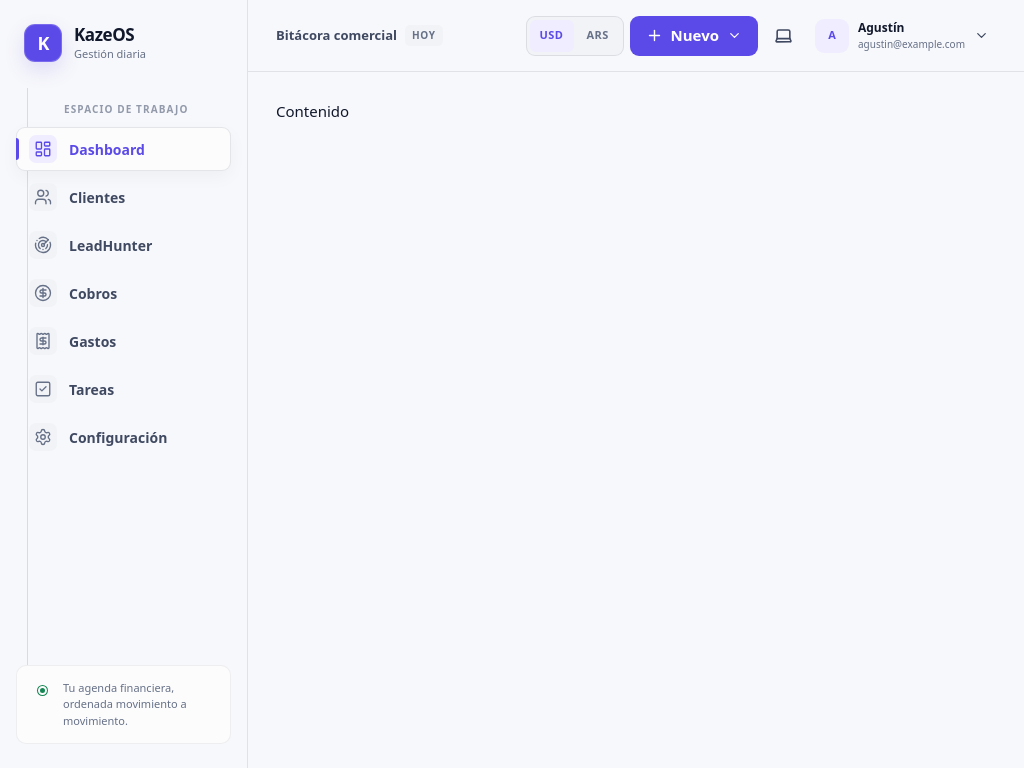
Scenario: AppShell › moves focus into the account menu and restores it on Escape
The width and height of the screenshot is (1024, 768).
Click the button with aria-label "Cuenta de Agustín": {"x": 903, "y": 36} [810,12,996,58]
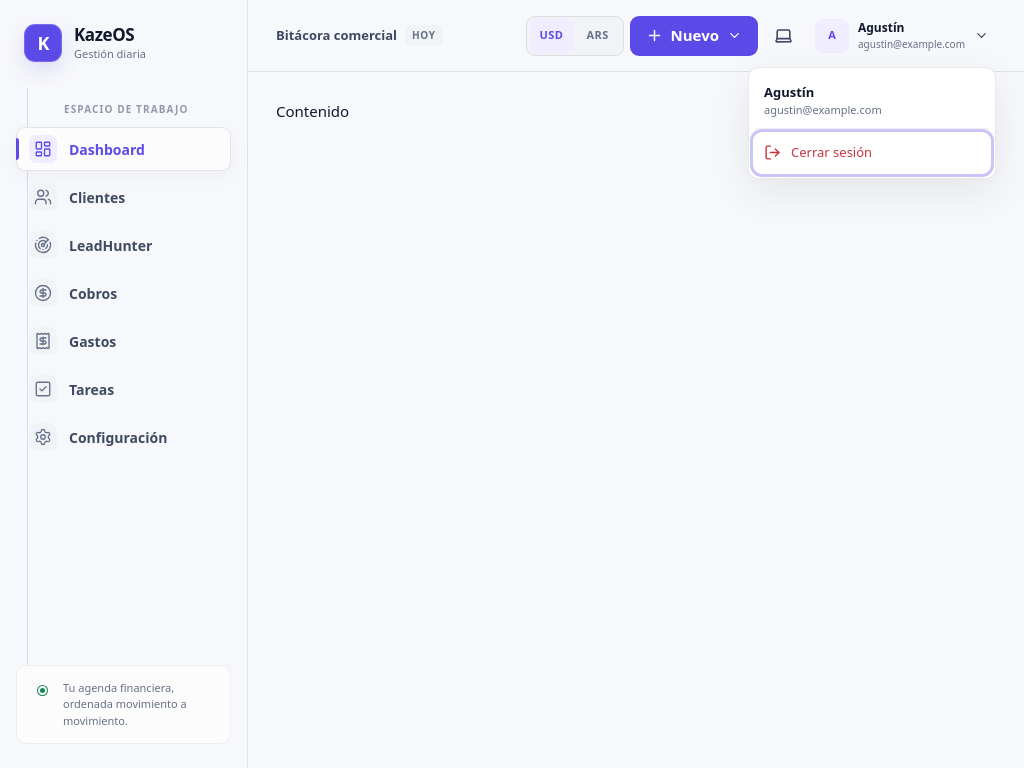
Press Arrowdown
Press Escape
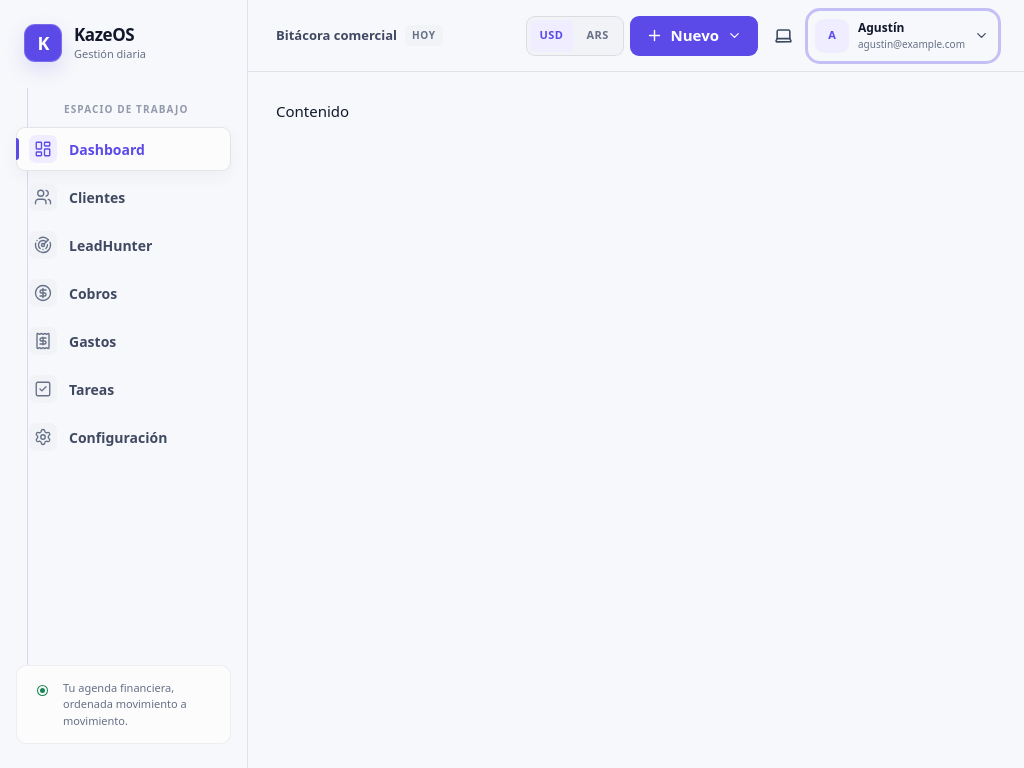
Now the menu "Cuenta" is gone
